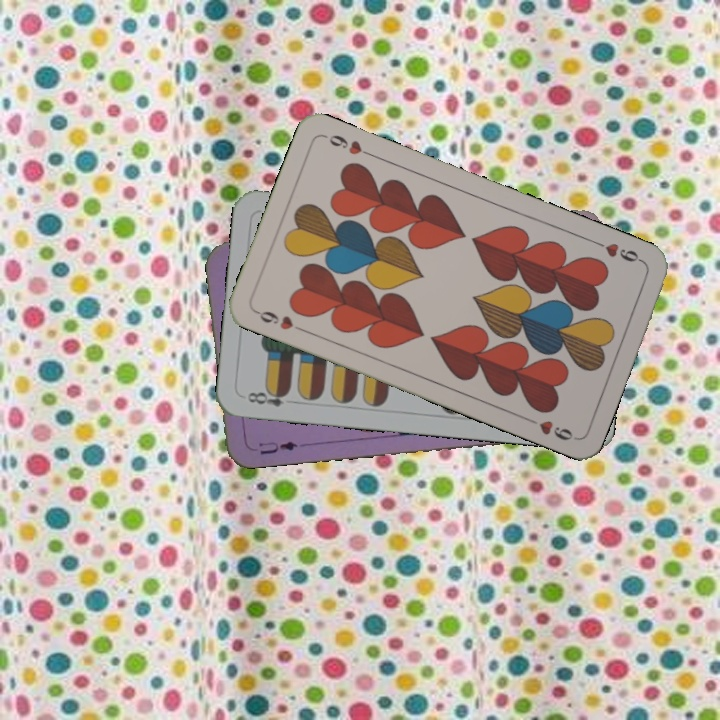E8: (243, 385, 299, 409)
EU: (254, 437, 300, 457)
H9: (590, 236, 647, 267), (251, 306, 308, 335)
